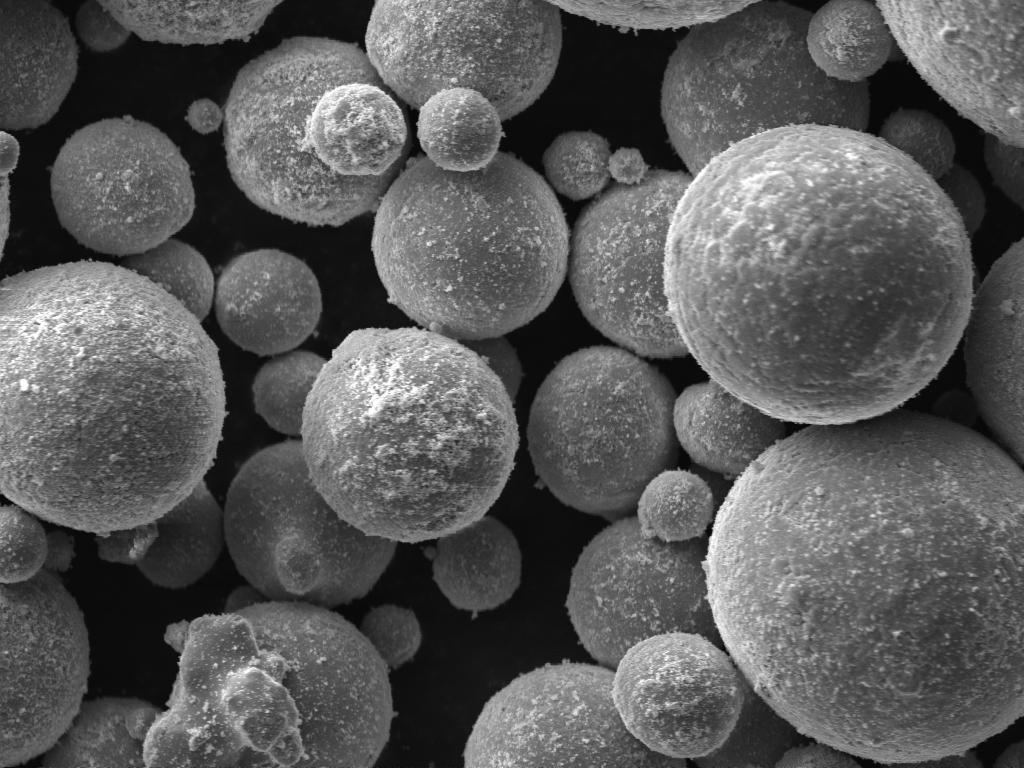Powder: (706, 412, 1024, 762), (664, 126, 972, 424), (0, 262, 226, 535), (0, 262, 224, 535), (302, 328, 520, 542), (144, 602, 420, 766), (662, 0, 892, 174), (464, 632, 744, 767), (372, 152, 568, 338), (224, 36, 410, 226), (366, 0, 562, 171), (566, 470, 722, 667), (224, 440, 396, 608), (528, 346, 680, 519), (568, 148, 692, 357), (0, 506, 90, 765), (878, 0, 1024, 147), (50, 116, 194, 255), (96, 482, 224, 588), (964, 238, 1024, 464), (214, 250, 322, 356), (674, 380, 786, 477), (76, 1, 282, 52), (0, 0, 78, 129), (432, 516, 522, 611), (42, 698, 162, 768), (122, 238, 214, 321), (252, 350, 326, 435), (548, 1, 756, 31), (880, 108, 956, 178), (542, 132, 610, 200), (936, 164, 986, 235), (984, 134, 1024, 209), (1, 130, 20, 257), (44, 530, 76, 572), (186, 98, 222, 134)
